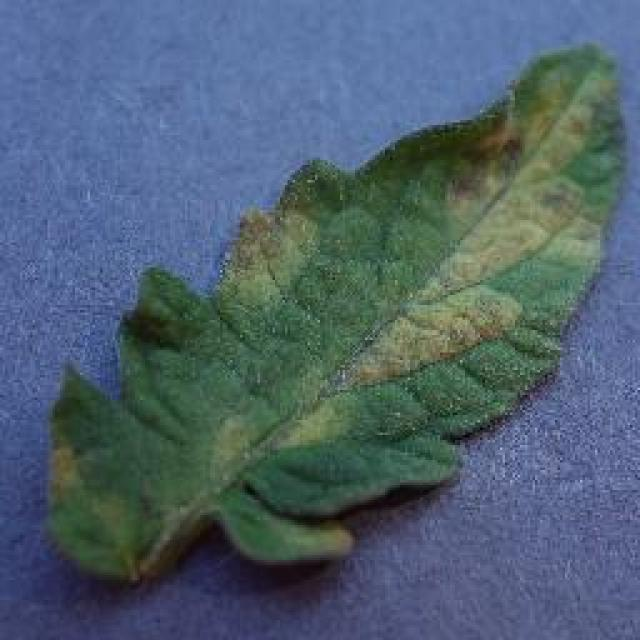Tomato mold leaf: (43, 45, 635, 585)
